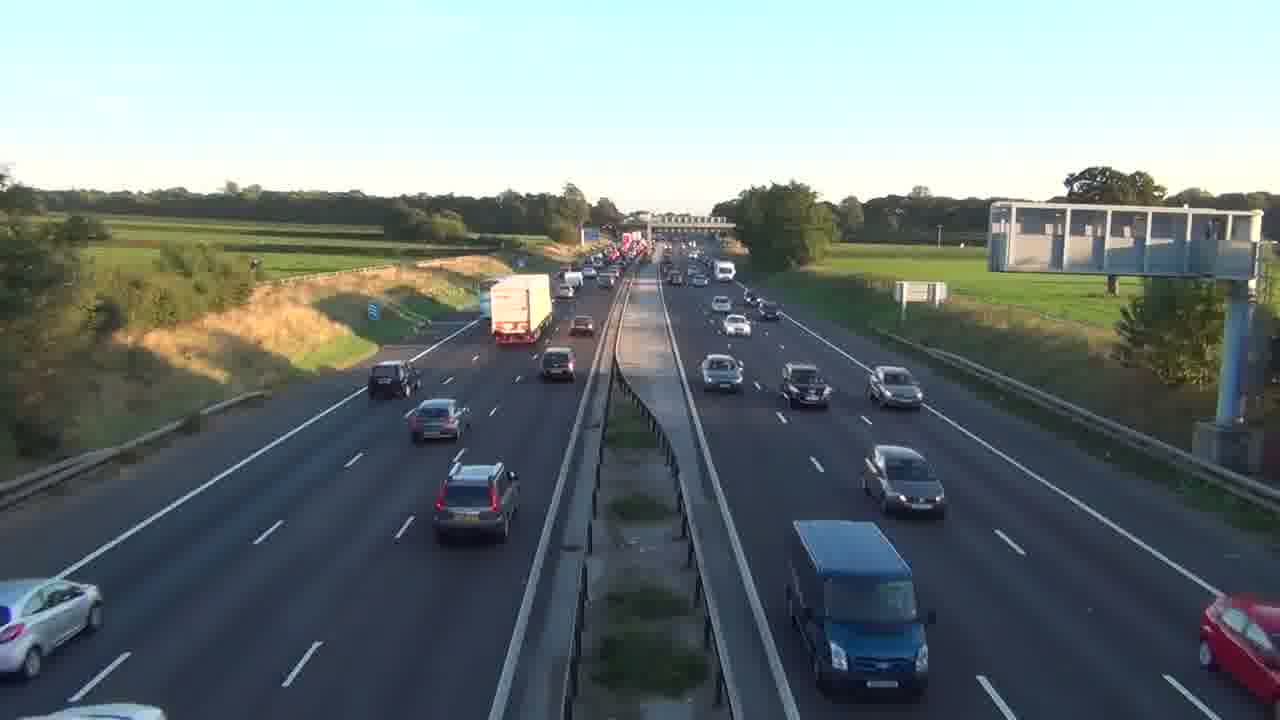car: (0, 577, 104, 682), (1199, 590, 1279, 707), (432, 455, 521, 544), (861, 443, 947, 519), (404, 397, 466, 443), (865, 365, 925, 410), (780, 361, 834, 408), (699, 353, 744, 393), (368, 361, 409, 400), (540, 346, 577, 383), (570, 315, 595, 337)
truck: (786, 518, 935, 700), (490, 273, 554, 345)
